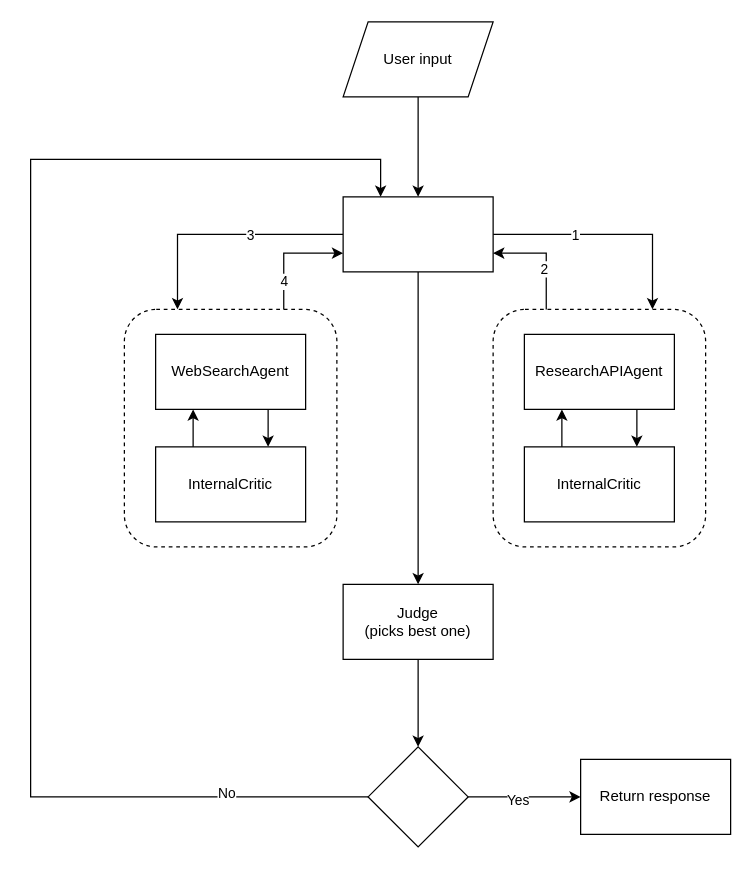
Image size: 753x869. Some labels were removed from this diagram. Here are the shapes that lost their labels. From the top down, the box of each, then its label:
(342, 196, 493, 272): GroupChatManager
(367, 746, 468, 847): Response OK?
